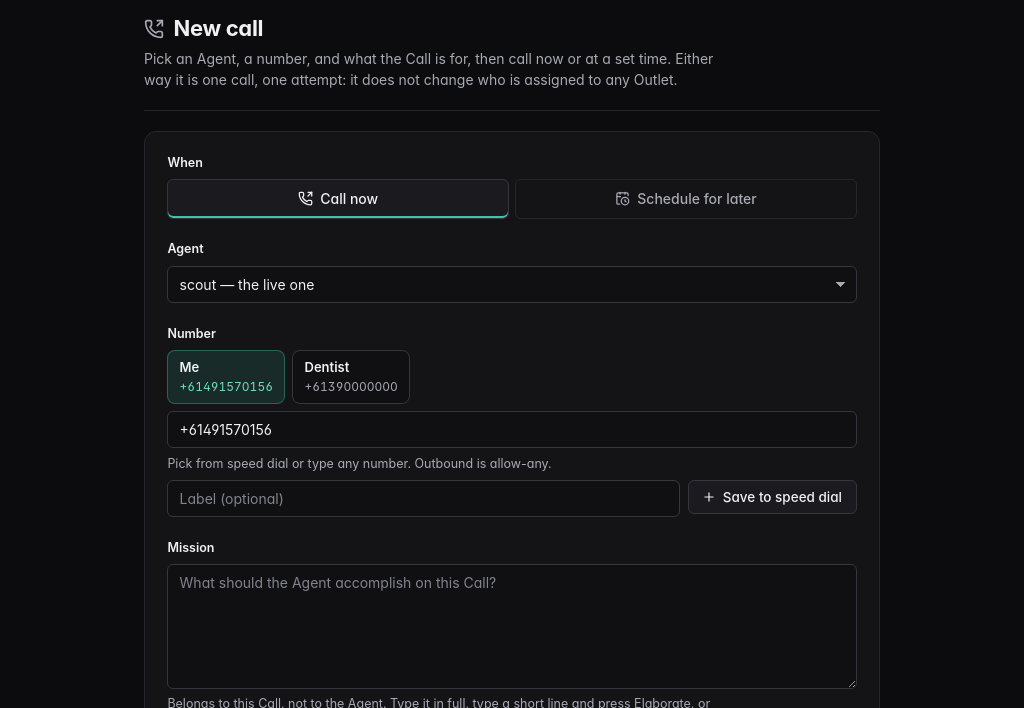
Place a call › hand-typed Mission still places exactly as ticket 09
Select "scout — the live one" in the dropdown with test id "place-agent". click: (512, 284)
box: [167,266,857,303]
Type "typed in full by hand" into the text box with test id "place-mission". click: (512, 626)
box: [167,564,857,689]
(page scrolled)
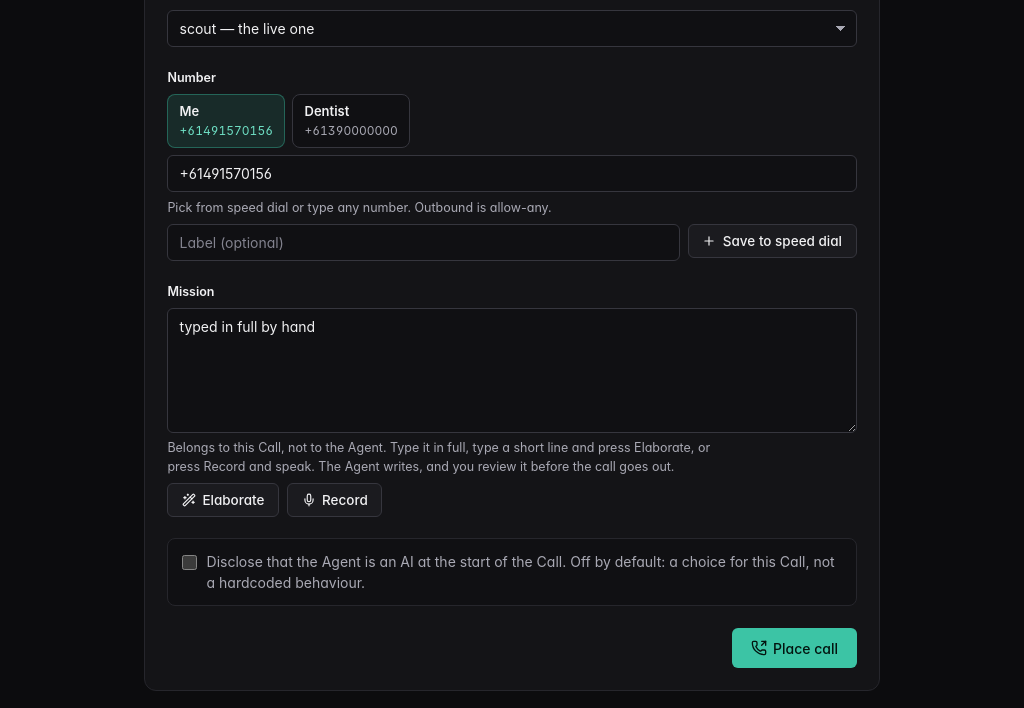
Click the button with test id "place-submit". click: (794, 648)
box: [732,628,857,668]
(page scrolled)
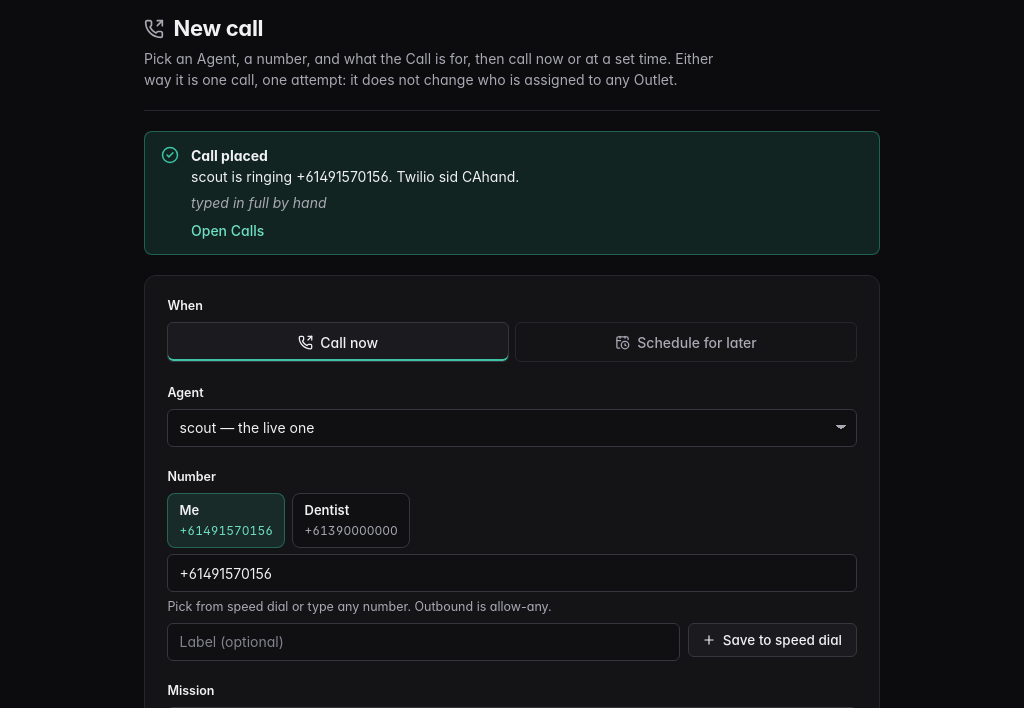
Expected: the element with test id "place-success" is shown, [144,131,880,255]
